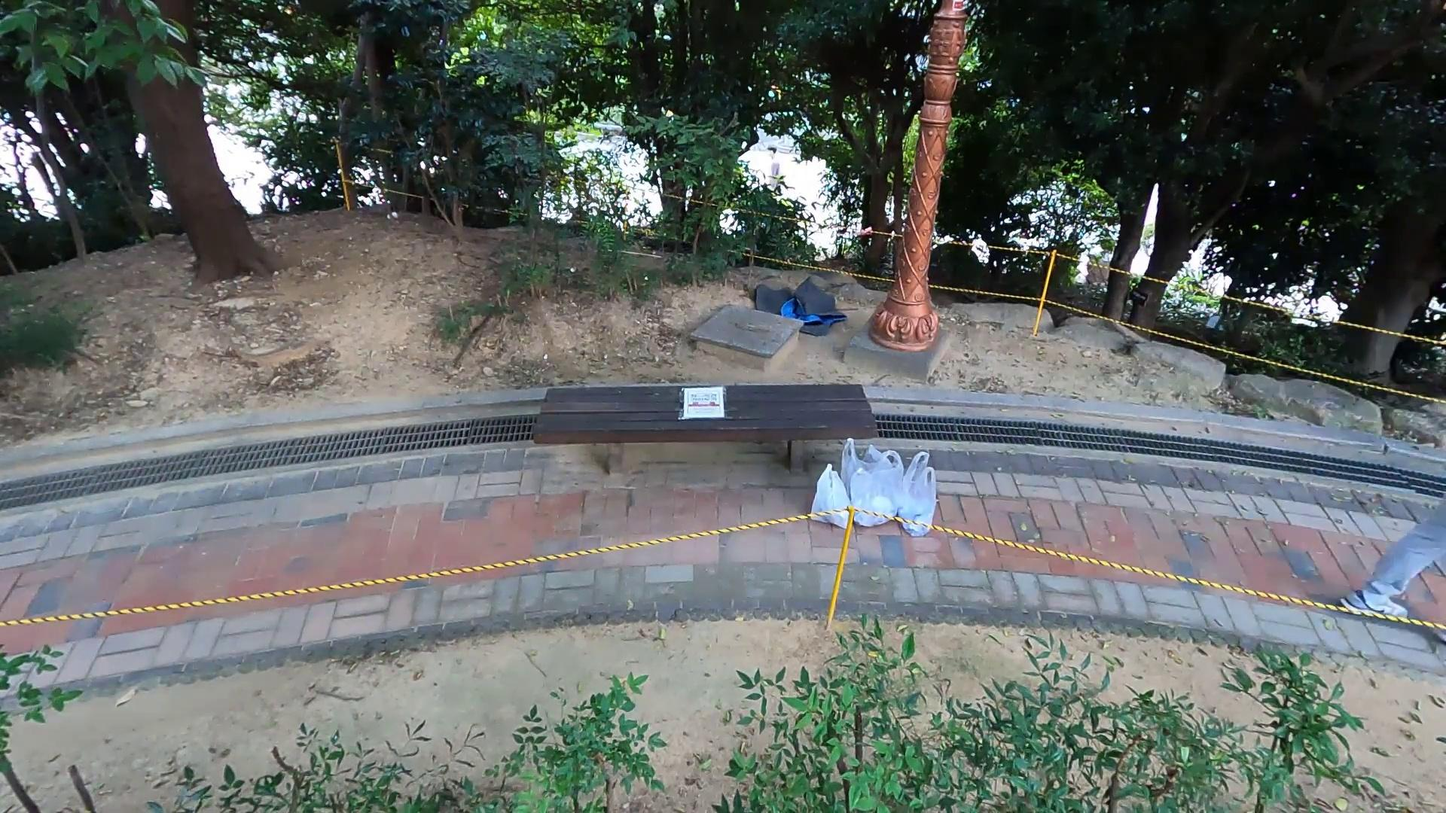trash: (748, 274, 848, 339), (835, 436, 902, 526), (892, 447, 939, 533), (850, 457, 901, 527), (810, 461, 852, 531)
